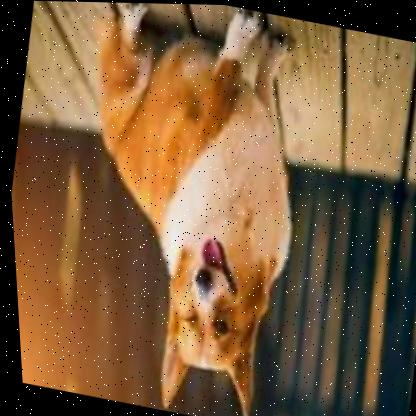dog: (32, 1, 342, 416)
